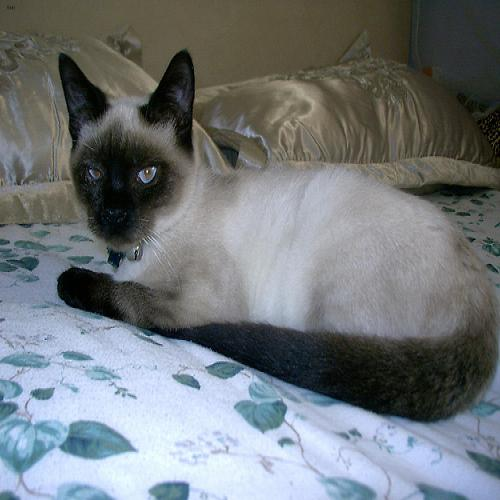siamese: (51, 42, 207, 269)
